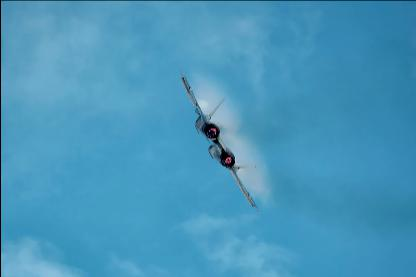SR71: (180, 70, 262, 214)
